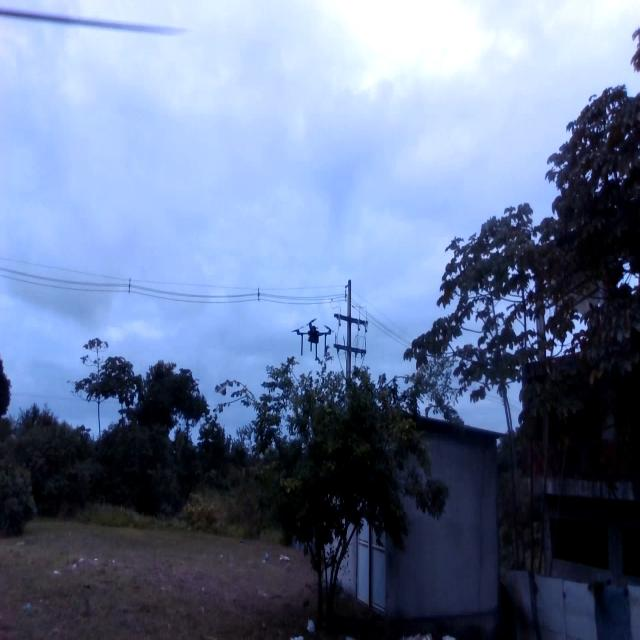-uav-: (290, 307, 332, 366)
